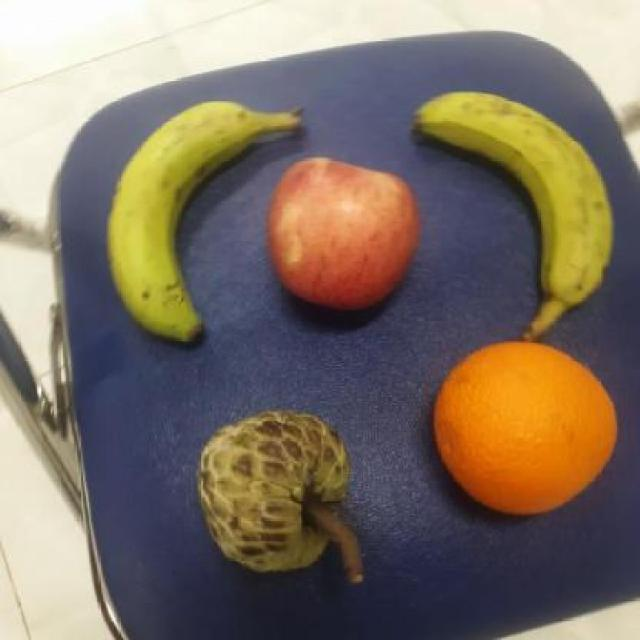apple: (265, 154, 423, 318)
banana: (414, 87, 614, 347), (97, 90, 285, 342)
oren: (425, 334, 621, 534)
sugar apple: (184, 408, 365, 586)
